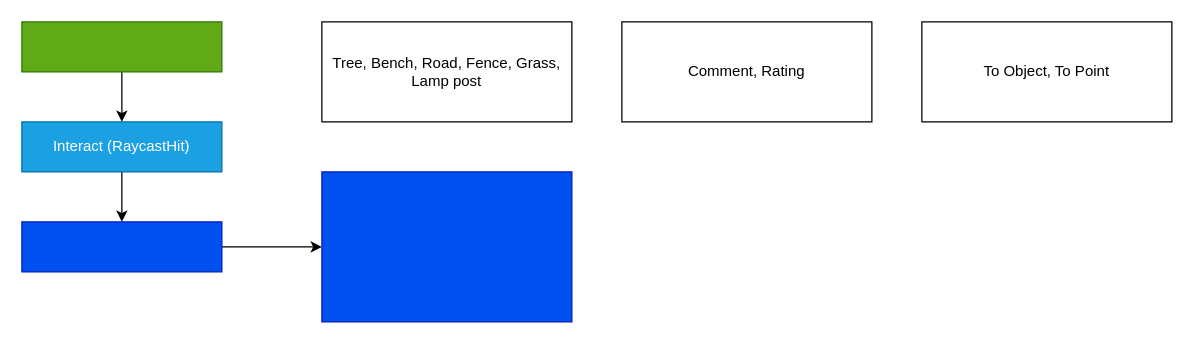
Some shapes in this 1194 by 344 pixel diagram are drawn without their labels. Here are the shapes that lost their labels. From the top down, the centre of each, then its label:
At point (121, 46): "Player".
At point (121, 246): "SceneObject".
